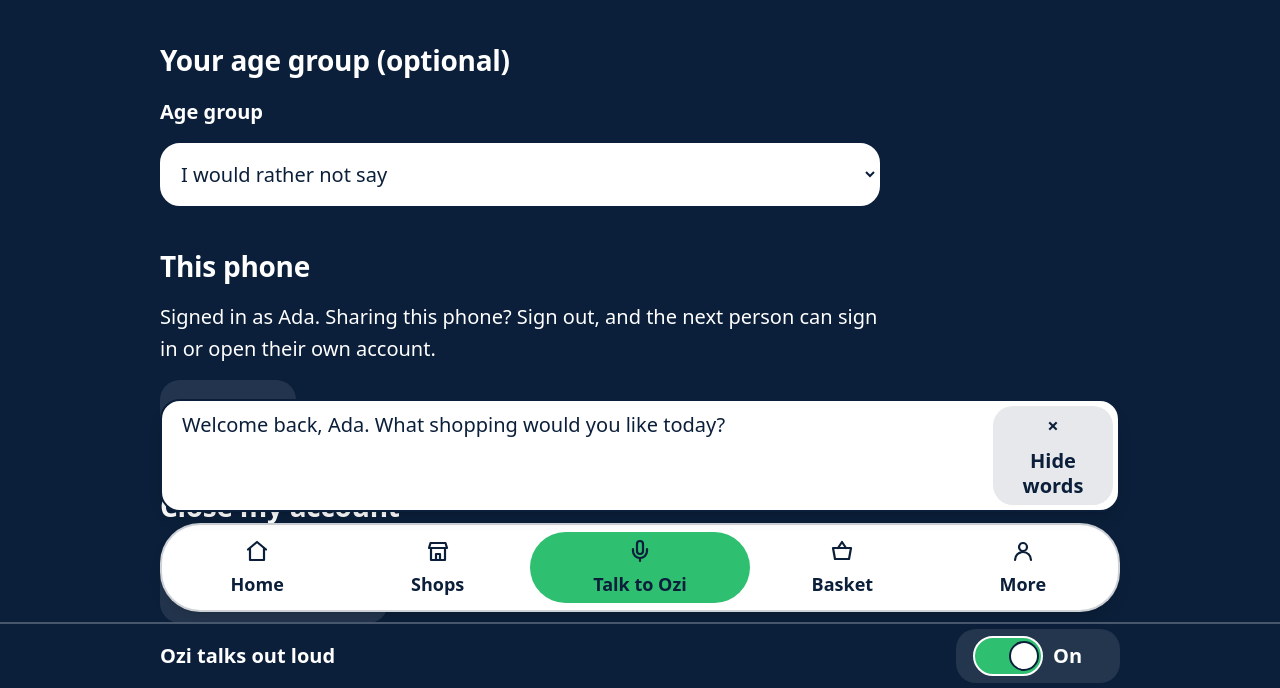
Scenario: Spotlight, age group and share links for Shoppers › lets a Shopper give an age group, or take it away
The image size is (1280, 688).
(page scrolled)
Select "65 and over" in the dropdown labelled "Age group" at x=520, y=174, box [160,143,880,206]
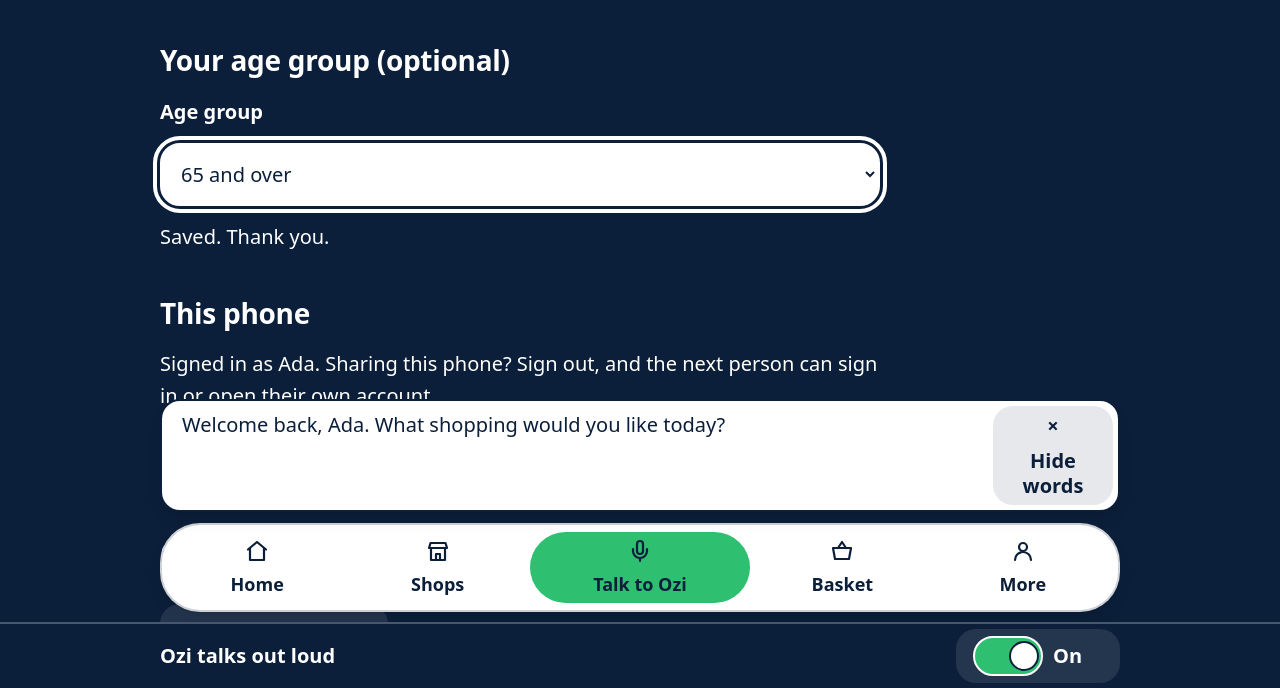
Check: the text "Saved. Thank you." is shown, box [160,223,330,250]
